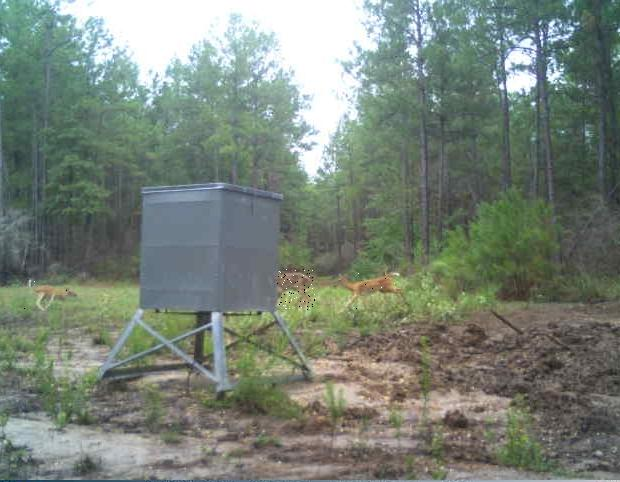Deer: (336, 271, 411, 314), (23, 276, 78, 316), (277, 270, 316, 314)
